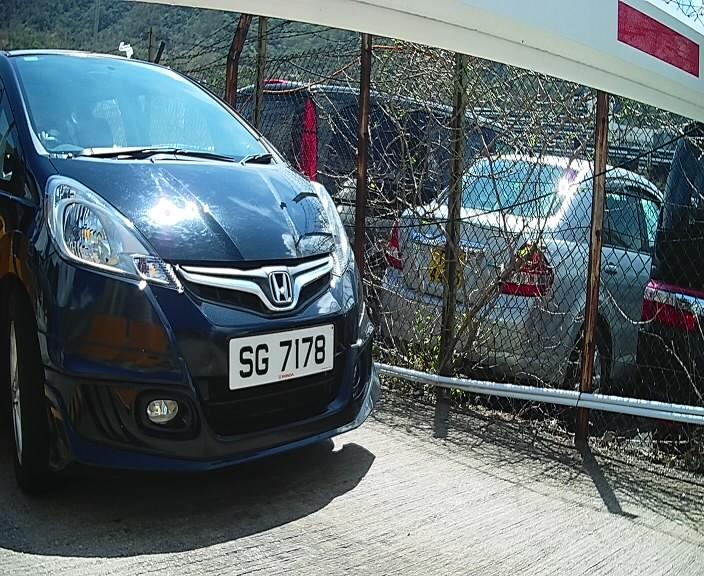License Plate: (216, 316, 345, 399)
